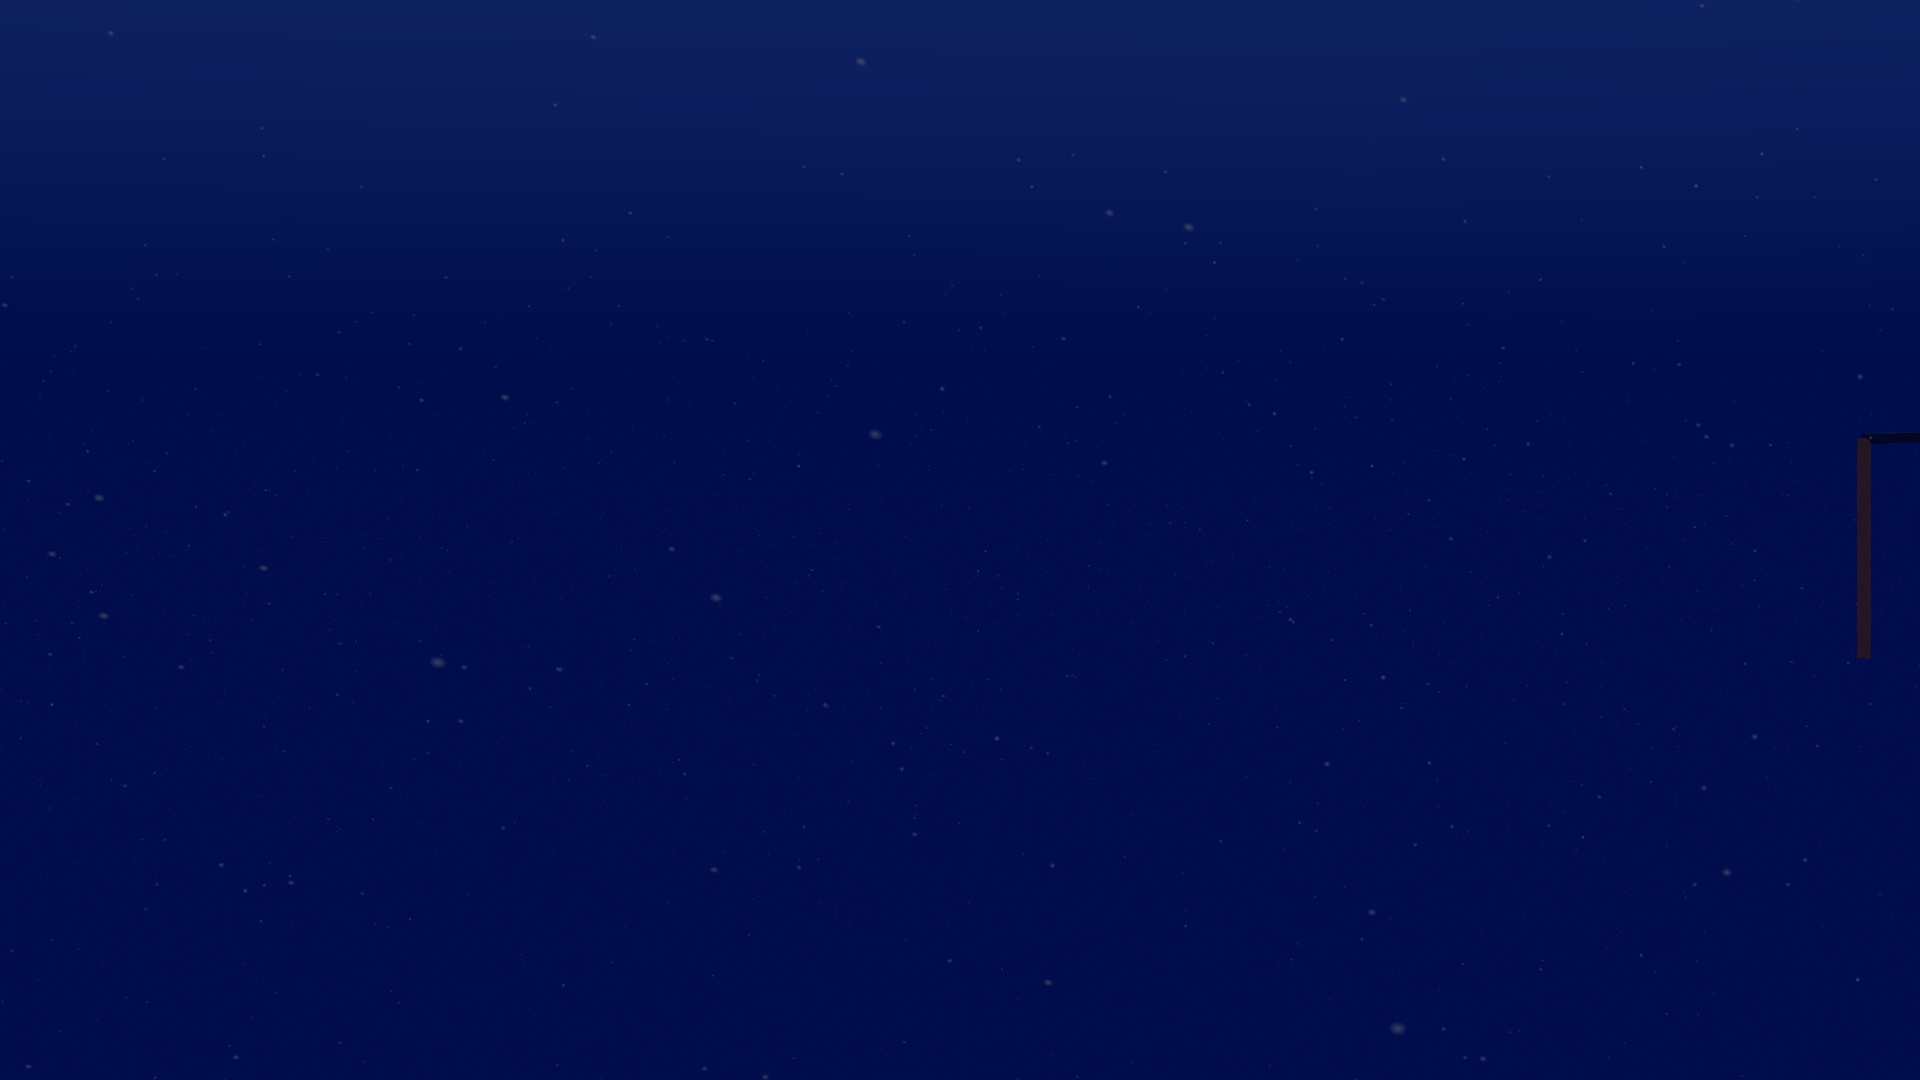Gate: (1850, 430, 1920, 669)
